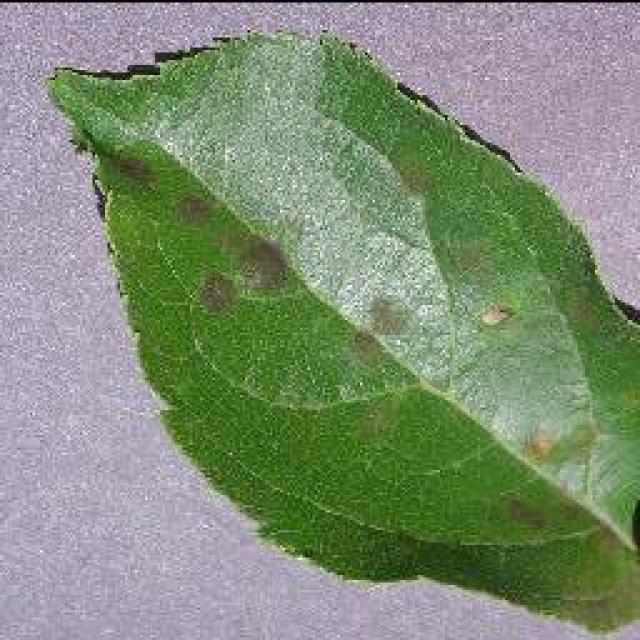apple scab disease: (42, 25, 638, 637)
